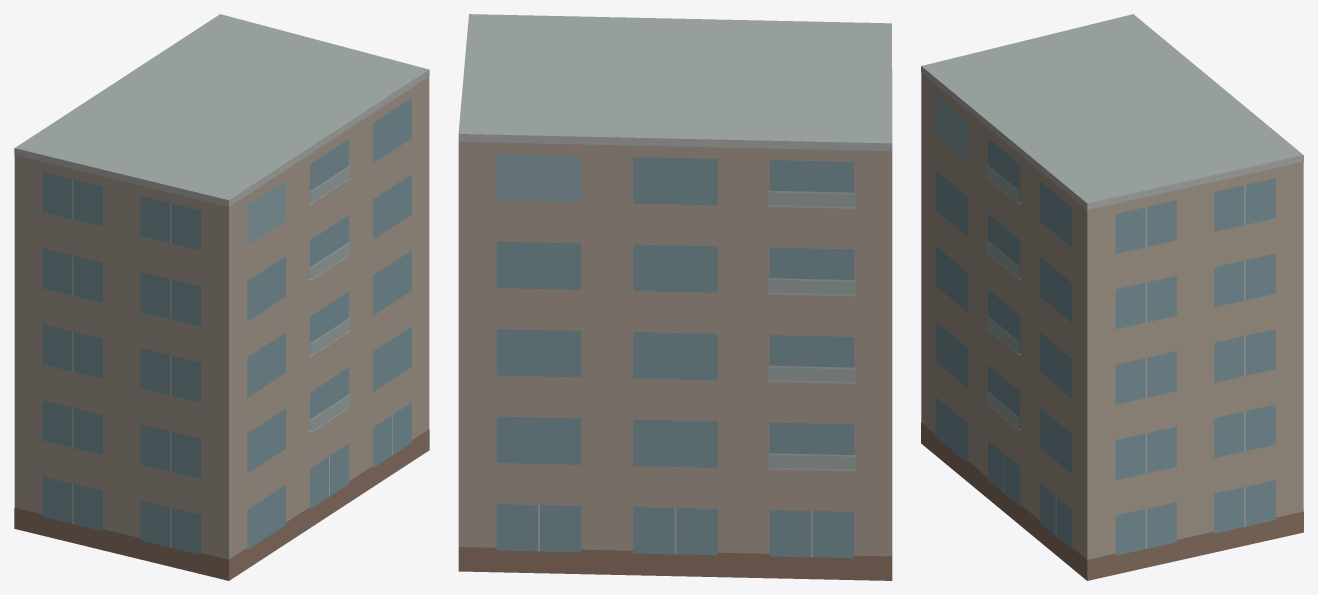
Rendered from survey-upis-32741824.glb.
The picture shows the model from 3 angles, left to right: view 1: azimuth 30°, elevation 25°; view 2: azimuth 150°, elevation 25°; view 3: azimuth 270°, elevation 25°; orthographic projection. The views are drawn at different scales.
Parts seen in each view (by area): view 1: survey-upis-32741824.tmp; view 2: survey-upis-32741824.tmp; view 3: survey-upis-32741824.tmp.
Boxes of the visible parts, x1=… form: survey-upis-32741824.tmp: x1=14, y1=14, x2=429, y2=580; survey-upis-32741824.tmp: x1=458, y1=14, x2=892, y2=580; survey-upis-32741824.tmp: x1=921, y1=14, x2=1303, y2=580.
Size of the model in its own units: 14.76 by 13.7 by 12.6.
